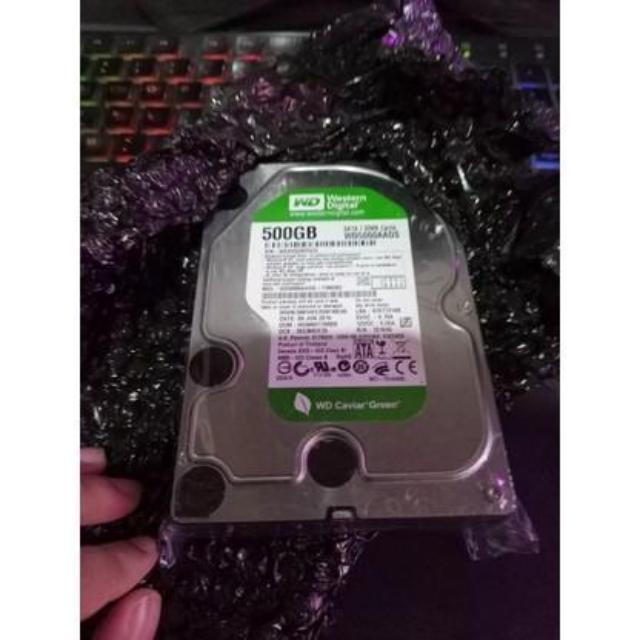DISK: (177, 161, 514, 530)
